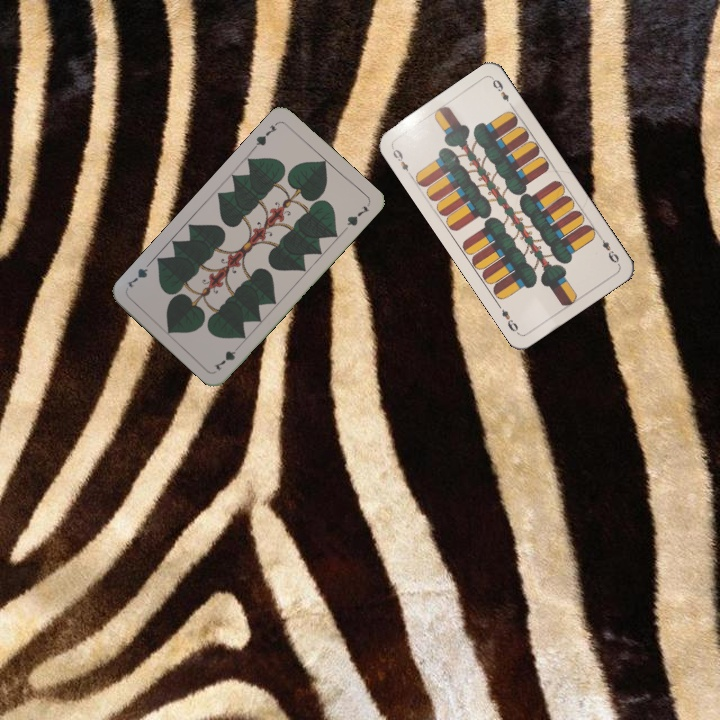E9: (594, 231, 622, 267), (388, 143, 414, 180)
G7: (210, 340, 244, 373), (249, 118, 280, 152)
